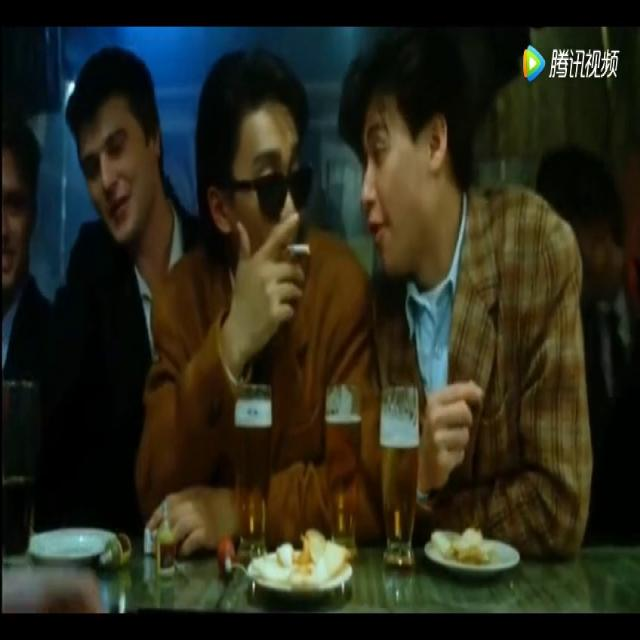smoking: (284, 240, 314, 257)
